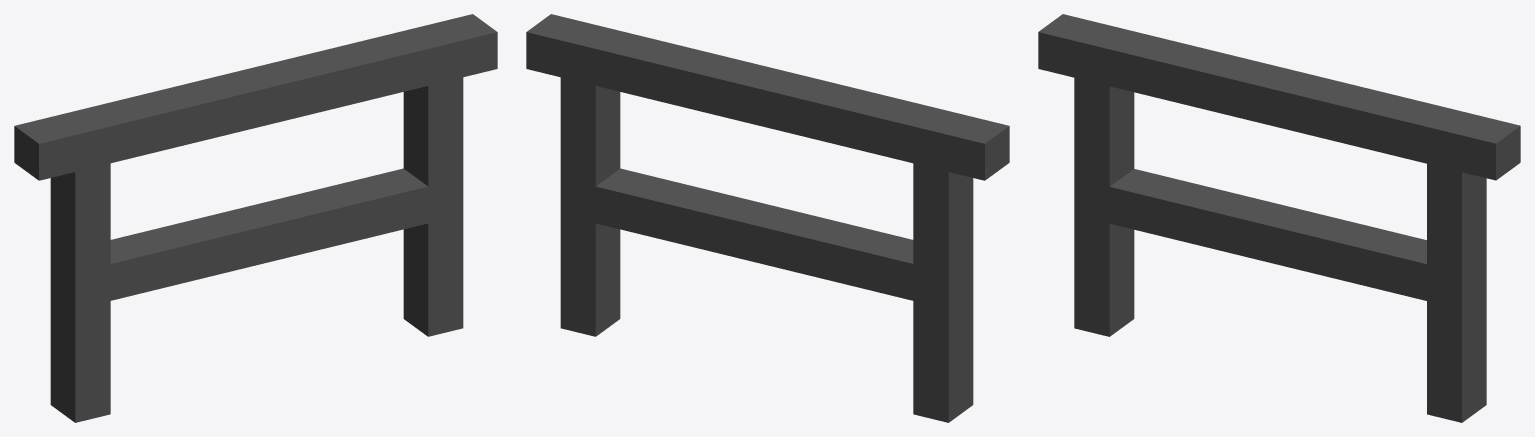
The model's file is barre.fbx.
3 views of the same model, side by side, from view 1: azimuth 30°, elevation 25°; view 2: azimuth 150°, elevation 25°; view 3: azimuth 330°, elevation 25° (orthographic).
Parts seen in each view (by area): view 1: Cube.022; view 2: Cube.022; view 3: Cube.022.
Boxes of the visible parts, x1=… form: Cube.022: x1=14, y1=14, x2=497, y2=422; Cube.022: x1=526, y1=14, x2=1009, y2=422; Cube.022: x1=1038, y1=14, x2=1520, y2=422.
Size of the model in its own units: 464 by 278 by 43.21.
